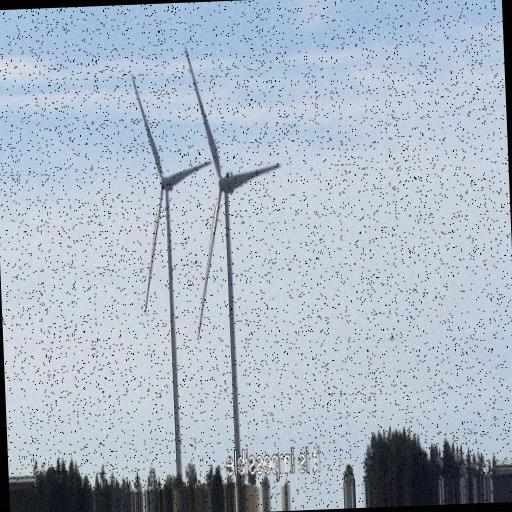wind turbine: (183, 46, 282, 456), (130, 75, 214, 466)
